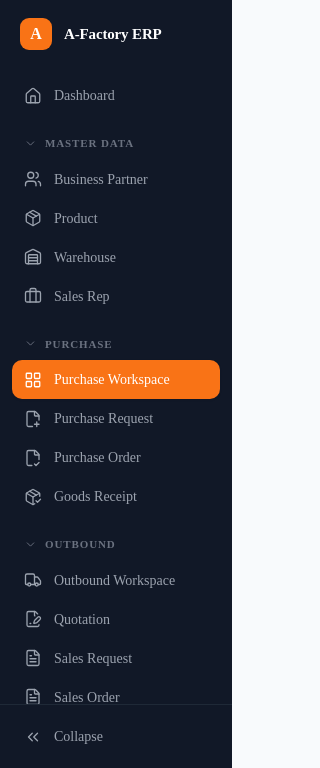
Sidebar — หุบเป็นรายหมวด › กดหัวข้อซ้ำเพื่อเปิดกลับ
The image size is (320, 768).
What coordinates should you click on to do the following:
click the button "Master Data"
I would click on:
 (116, 137)
Its box is [12,115,220,160].
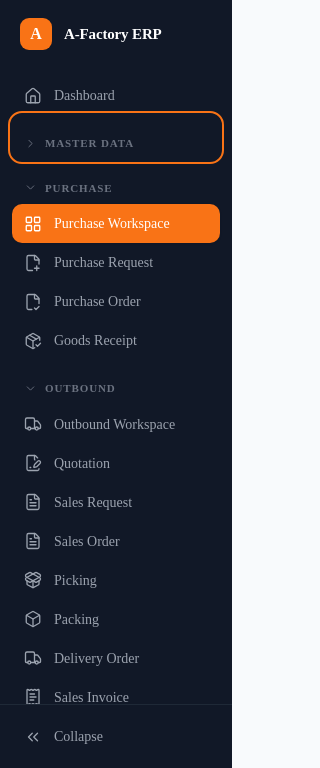
What coordinates should you click on to do the following:
click the button "Master Data"
I would click on:
 (116, 137)
Its box is [12,115,220,160].
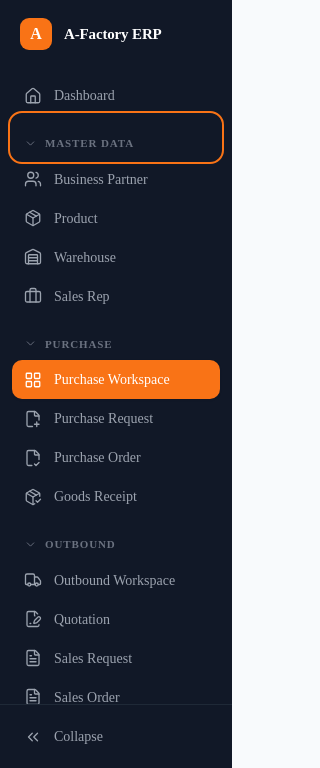
Result: the link "Business Partner" is shown at [24,170,148,188]
